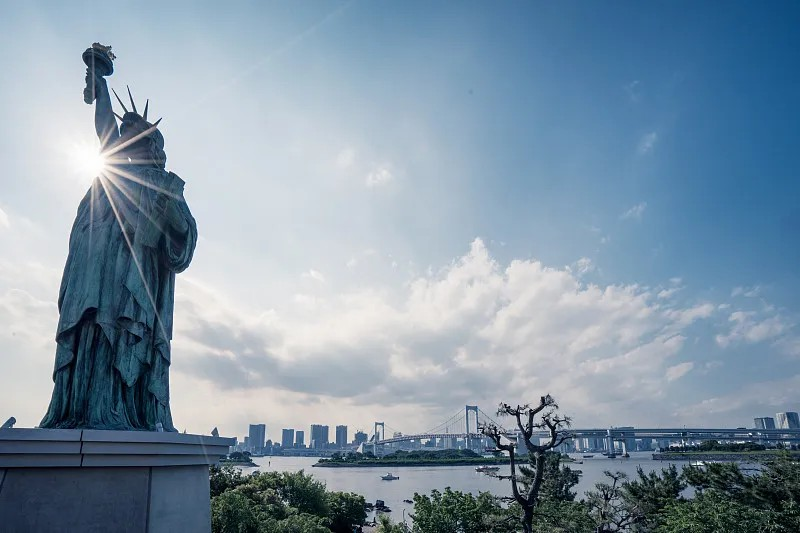SL: (1, 42, 238, 533)
